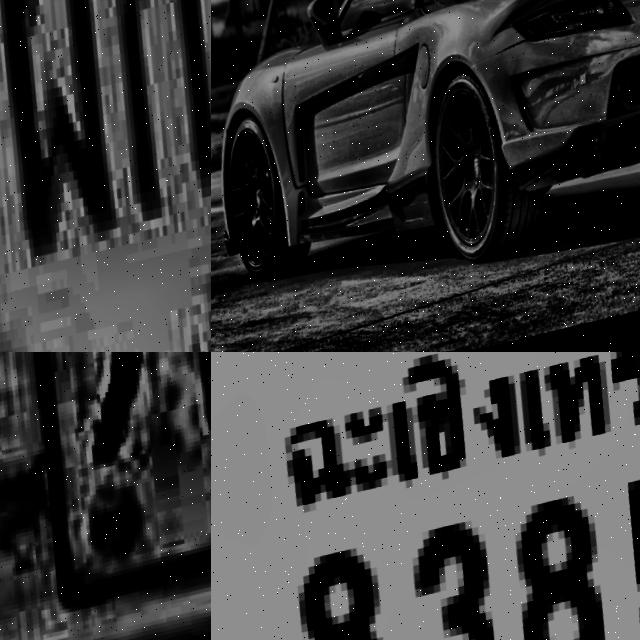license-plate: (211, 352, 640, 640), (0, 0, 211, 352), (0, 352, 211, 636)
